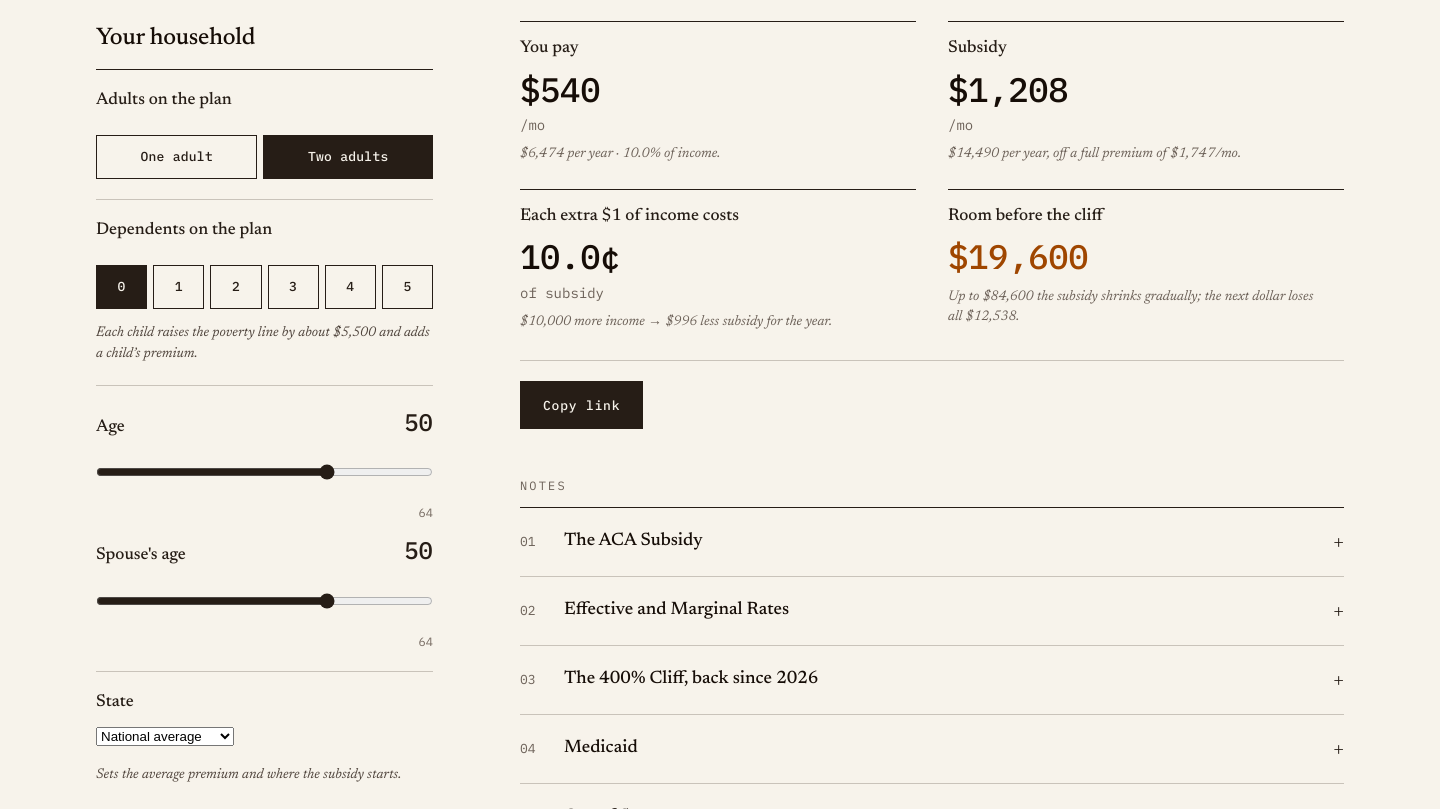
Test case: the figures › says when the clipboard refuses
(page scrolled)
Click the button "Copy link" at x=582, y=405, box [520,381,643,429]
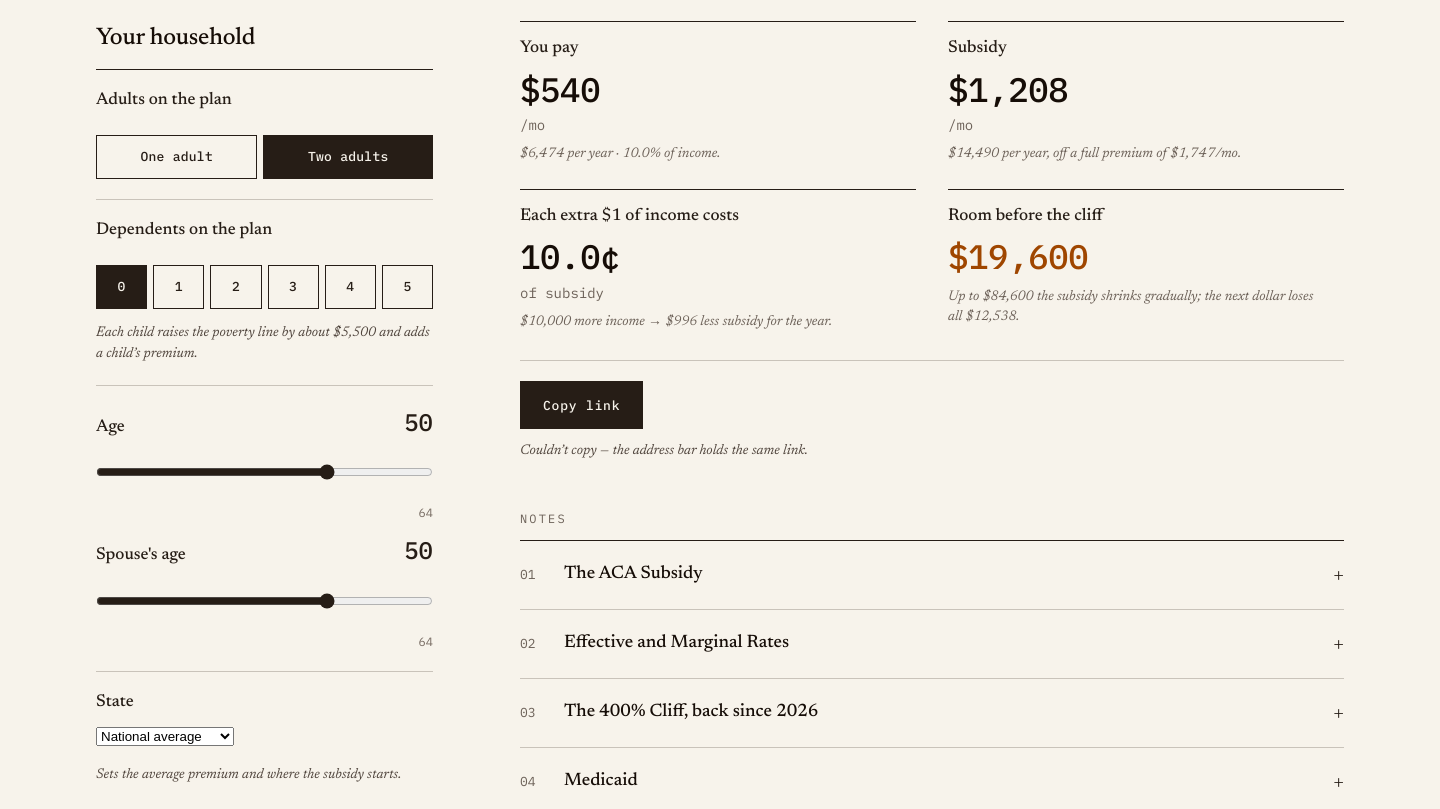
Expected: the text "Couldn’t copy — the address bar holds the same link." is not empty, [520,444,808,458]
